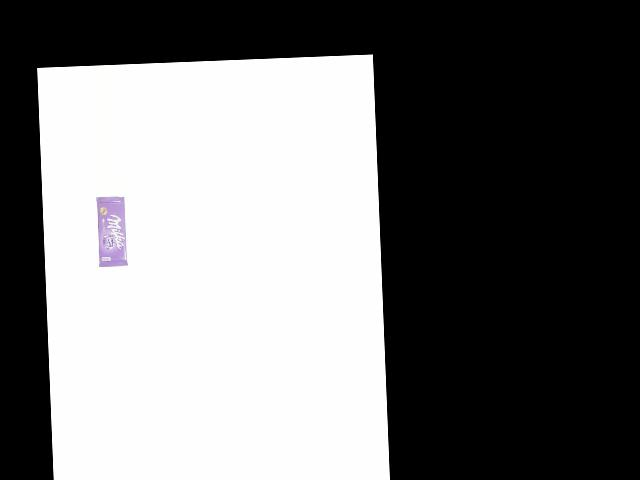chocolate: (92, 195, 129, 271)
